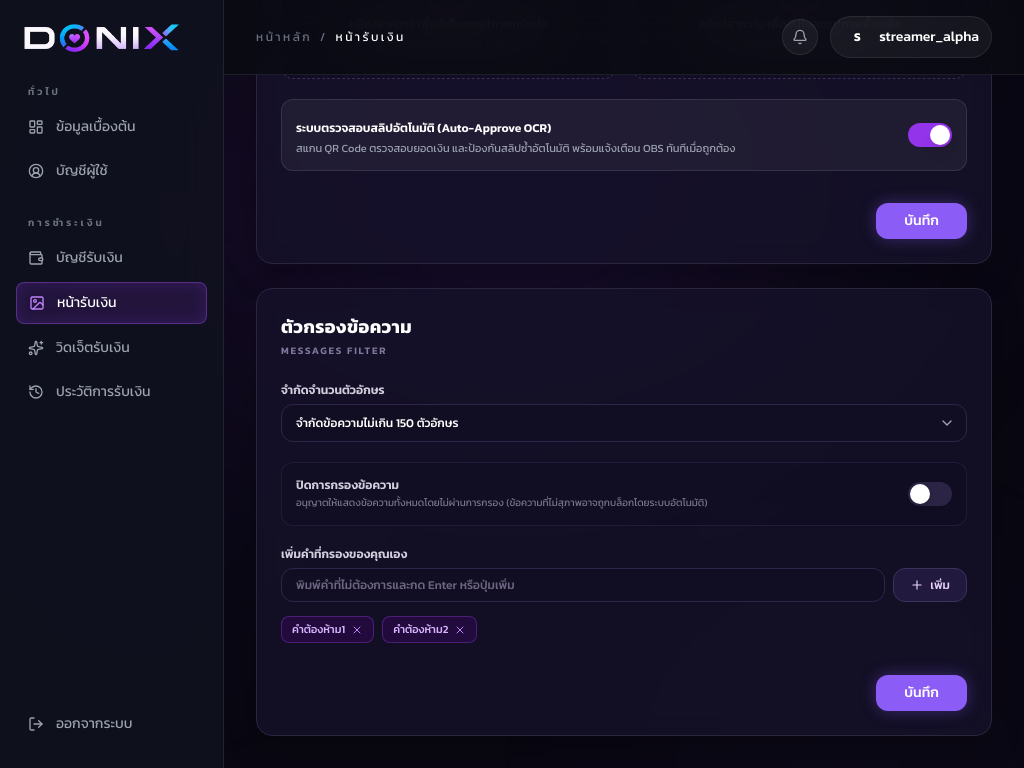
Test: DonatePage Integration › saves MessageFilterSection successfully and shows feedback toast
(page scrolled)
Select "จำกัดข้อความไม่เกิน 200 ตัวอักษร" in the dropdown labelled "จำกัดจำนวนตัวอักษร" at (624, 423), box [281,404,967,442]
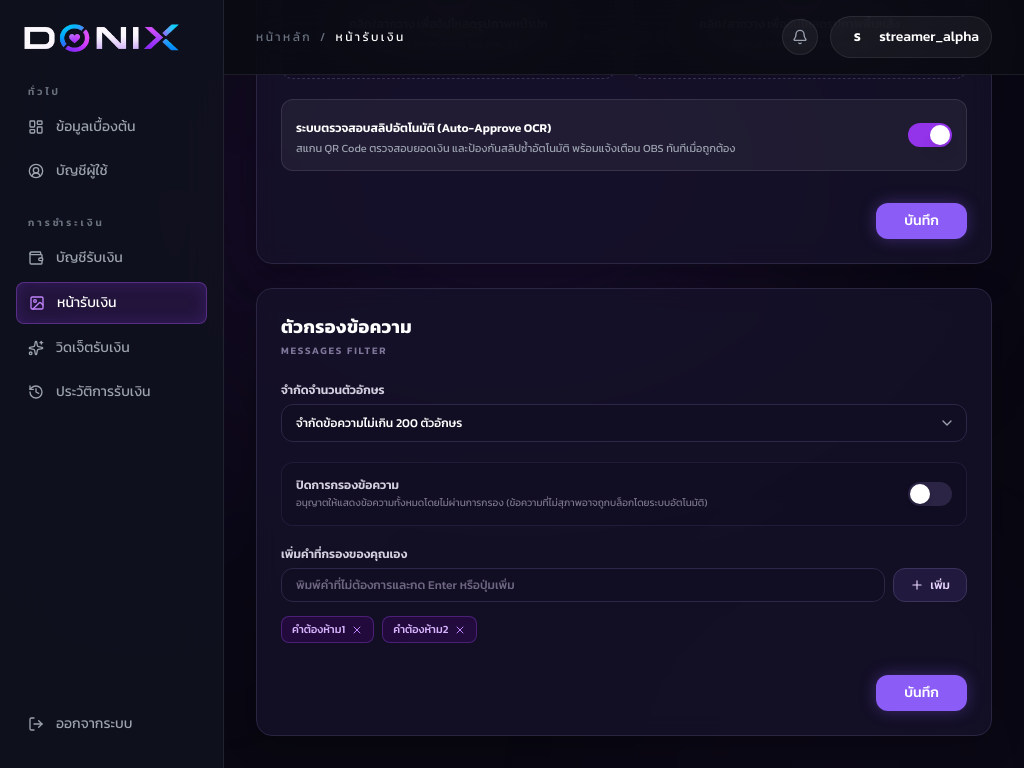
// The second save button is for MessageFilterSection
Click the 2nd button "บันทึก".
click(922, 693)  # box [876,675,967,711]
(page scrolled)
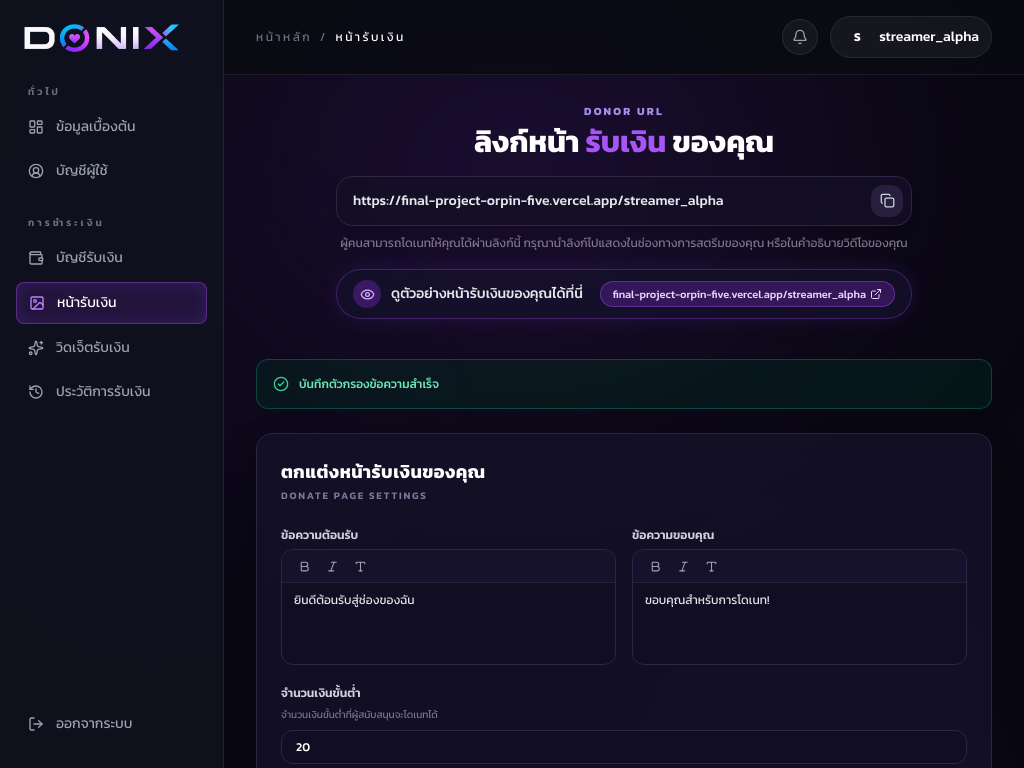
Check: the text "บันทึกตัวกรองข้อความสำเร็จ" is shown, box [299,376,439,392]
